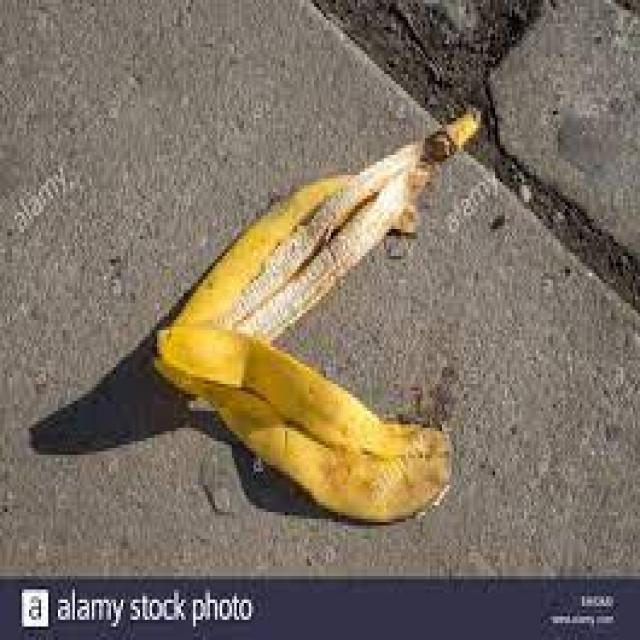banana-peel: (149, 105, 485, 525)
